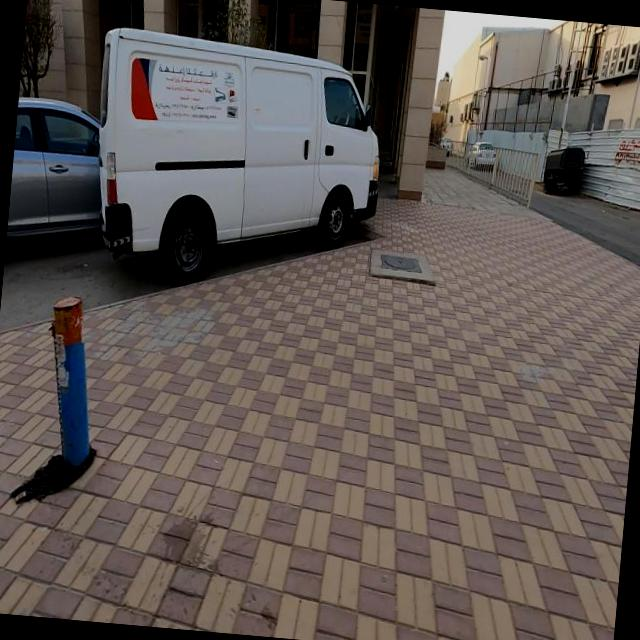debris: (576, 89, 640, 216)
